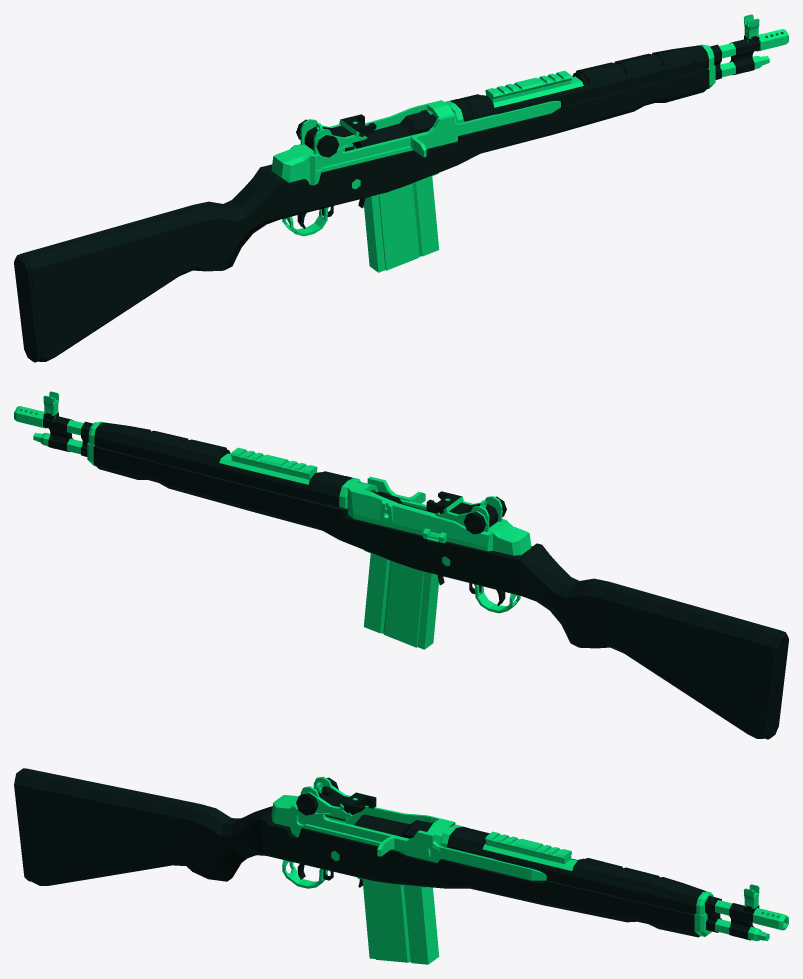
File: M1A_sniper.fbx
The picture shows the model from 3 angles, top to bottom: view 1: azimuth 30°, elevation 25°; view 2: azimuth 150°, elevation 25°; view 3: azimuth 330°, elevation 25°; orthographic projection.
Parts seen in each view (by area): view 1: Cylinder.007; view 2: Cylinder.007; view 3: Cylinder.007.
Boxes of the visible parts, box(x1,y1,x2,y2) form: Cylinder.007: box(14, 14, 788, 362); Cylinder.007: box(14, 391, 788, 739); Cylinder.007: box(14, 768, 788, 964).
Size of the model in its own units: 816 by 172 by 67.33.
